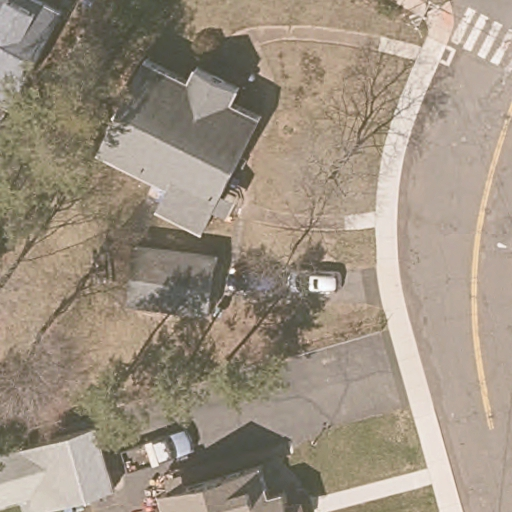DT: (402, 1, 446, 32)
